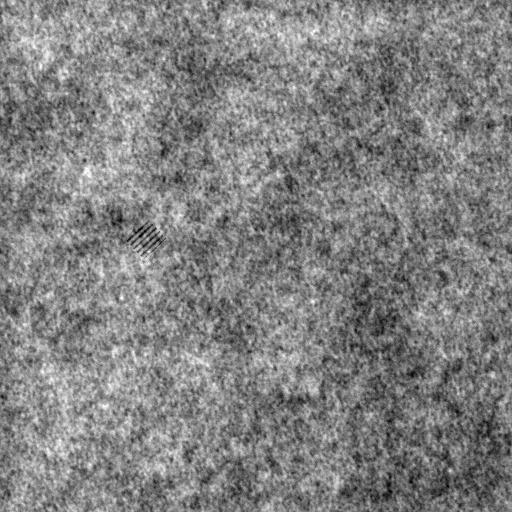DefectTypeB: (127, 220, 163, 254)
